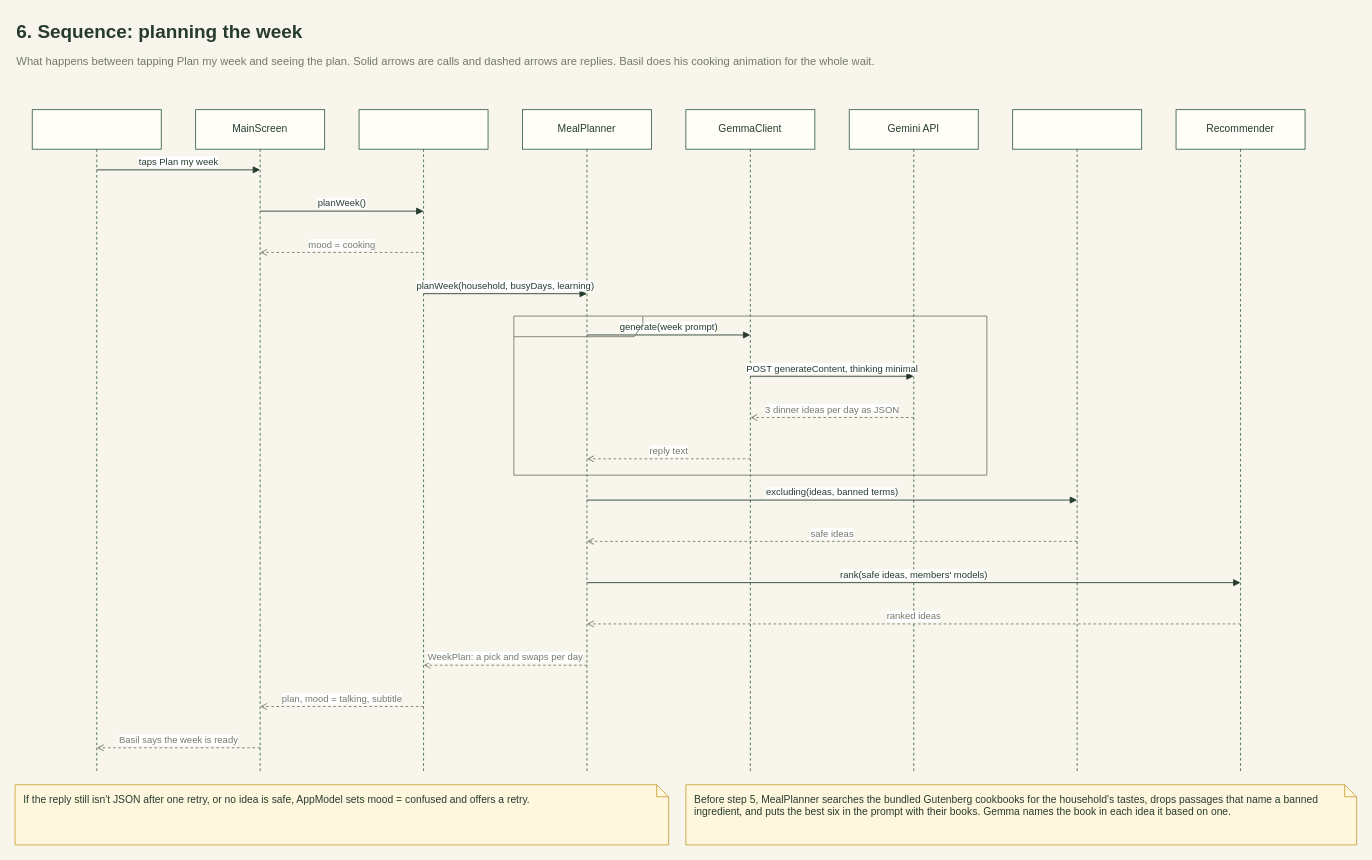
The diagram is 1372 pixels wide and 860 high, and some of its shapes have lost their labels. The box of each missing label's shape, as (x1, y1, x2, y2) in pixels:
alt: reply isn't JSON, ask once more: (513, 315, 987, 475)
AppModel: (358, 109, 488, 772)
HardRules: (1012, 109, 1142, 772)
Home cook: (31, 109, 161, 772)
